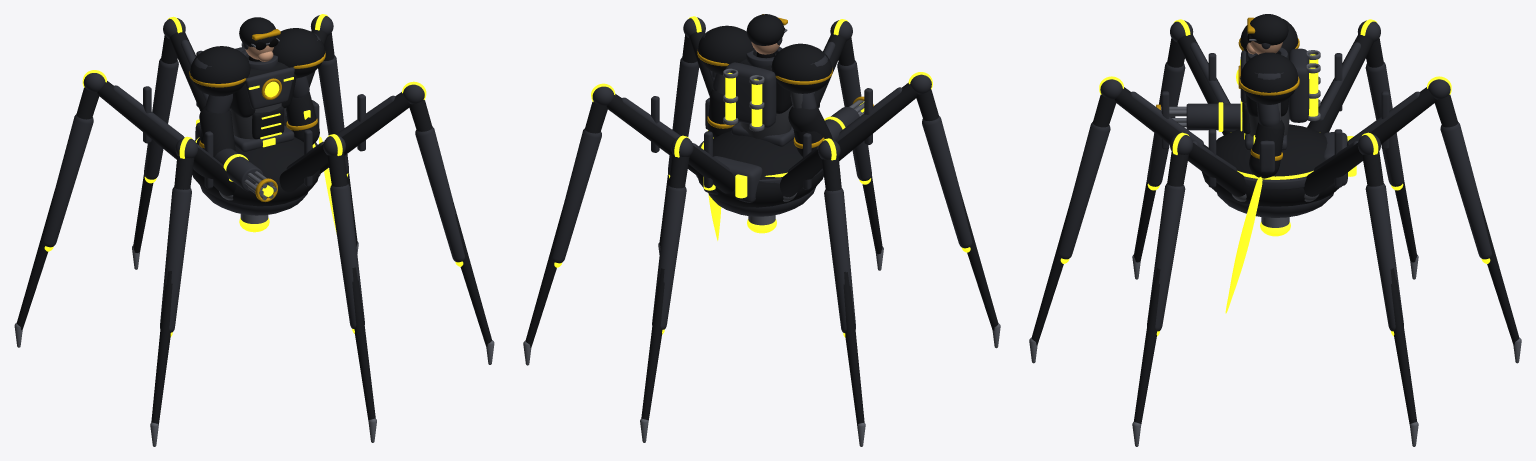
The model's file is spiderrigmk2.glb.
3 renders of one model, left to right at view 1: azimuth 30°, elevation 25°; view 2: azimuth 150°, elevation 25°; view 3: azimuth 270°, elevation 25°, orthographic. The views are drawn at different scales.
Visible parts, largest first — view 1: SpiderLeg_4_Lower, SpiderLeg_5_Lower, SpiderLeg_6_Lower, SpiderLeg_3_Lower, SpiderPod_Body, SpiderLeg_2_Lower, RightArm_Armor, RightGatling, Chest_Armor, SpiderLeg_1_Lower, LeftArm_Armor, SpiderLeg_3_Upper (+8 smaller); view 2: SpiderPod_Body, SpiderLeg_3_Lower, SpiderLeg_2_Lower, SpiderLeg_1_Lower, SpiderLeg_4_Lower, Chest_Armor, SpiderLeg_5_Lower, RightArm_Armor, SpiderLeg_6_Lower, LeftArm_Armor, SpiderLeg_4_Upper, RightGatling (+9 smaller); view 3: SpiderPod_Body, SpiderLeg_1_Lower, SpiderLeg_6_Lower, SpiderLeg_2_Lower, SpiderLeg_5_Lower, SpiderLeg_3_Lower, SpiderLeg_4_Lower, LeftArm_Armor, Chest_Armor, SpiderLeg_3_Upper, RightGatling, SpiderLeg_5_Upper (+9 smaller).
Part boxes in pixels (left/top/right/bottom): SpiderLeg_4_Lower: left=150, top=136, right=198, bottom=446; SpiderLeg_5_Lower: left=323, top=134, right=376, bottom=442; SpiderLeg_6_Lower: left=402, top=81, right=494, bottom=364; SpiderLeg_3_Lower: left=14, top=70, right=106, bottom=347; SpiderPod_Body: left=192, top=119, right=320, bottom=232; SpiderLeg_2_Lower: left=132, top=16, right=185, bottom=269; RightArm_Armor: left=189, top=46, right=250, bottom=113; RightGatling: left=199, top=106, right=277, bottom=201; Chest_Armor: left=229, top=42, right=296, bottom=117; SpiderLeg_1_Lower: left=310, top=14, right=358, bottom=253; LeftArm_Armor: left=272, top=28, right=325, bottom=97; SpiderLeg_3_Upper: left=97, top=81, right=184, bottom=159; SpiderPod_Body: left=696, top=131, right=823, bottom=233; SpiderLeg_3_Lower: left=818, top=138, right=865, bottom=446; SpiderLeg_2_Lower: left=640, top=135, right=693, bottom=442; SpiderLeg_1_Lower: left=523, top=83, right=615, bottom=365; SpiderLeg_4_Lower: left=908, top=72, right=1000, bottom=348; Chest_Armor: left=723, top=47, right=792, bottom=131; SpiderLeg_5_Lower: left=830, top=19, right=883, bottom=270; RightArm_Armor: left=771, top=43, right=832, bottom=109; SpiderLeg_6_Lower: left=658, top=16, right=705, bottom=254; LeftArm_Armor: left=697, top=25, right=756, bottom=94; SpiderLeg_4_Upper: left=836, top=82, right=918, bottom=160; RightGatling: left=788, top=96, right=873, bottom=141; SpiderPod_Body: left=1201, top=124, right=1356, bottom=236; SpiderLeg_1_Lower: left=1357, top=132, right=1418, bottom=446; SpiderLeg_6_Lower: left=1132, top=132, right=1193, bottom=446; SpiderLeg_2_Lower: left=1427, top=76, right=1521, bottom=363; SpiderLeg_5_Lower: left=1029, top=76, right=1123, bottom=363; SpiderLeg_3_Lower: left=1357, top=19, right=1418, bottom=279; SpiderLeg_4_Lower: left=1132, top=19, right=1193, bottom=279; LeftArm_Armor: left=1238, top=52, right=1299, bottom=126; Chest_Armor: left=1236, top=47, right=1320, bottom=122; SpiderLeg_3_Upper: left=1307, top=33, right=1373, bottom=133; RightGatling: left=1156, top=102, right=1242, bottom=131; SpiderLeg_5_Upper: left=1114, top=87, right=1208, bottom=149.
Size of the model in its own units: 2.6 by 2.45 by 3.16.
